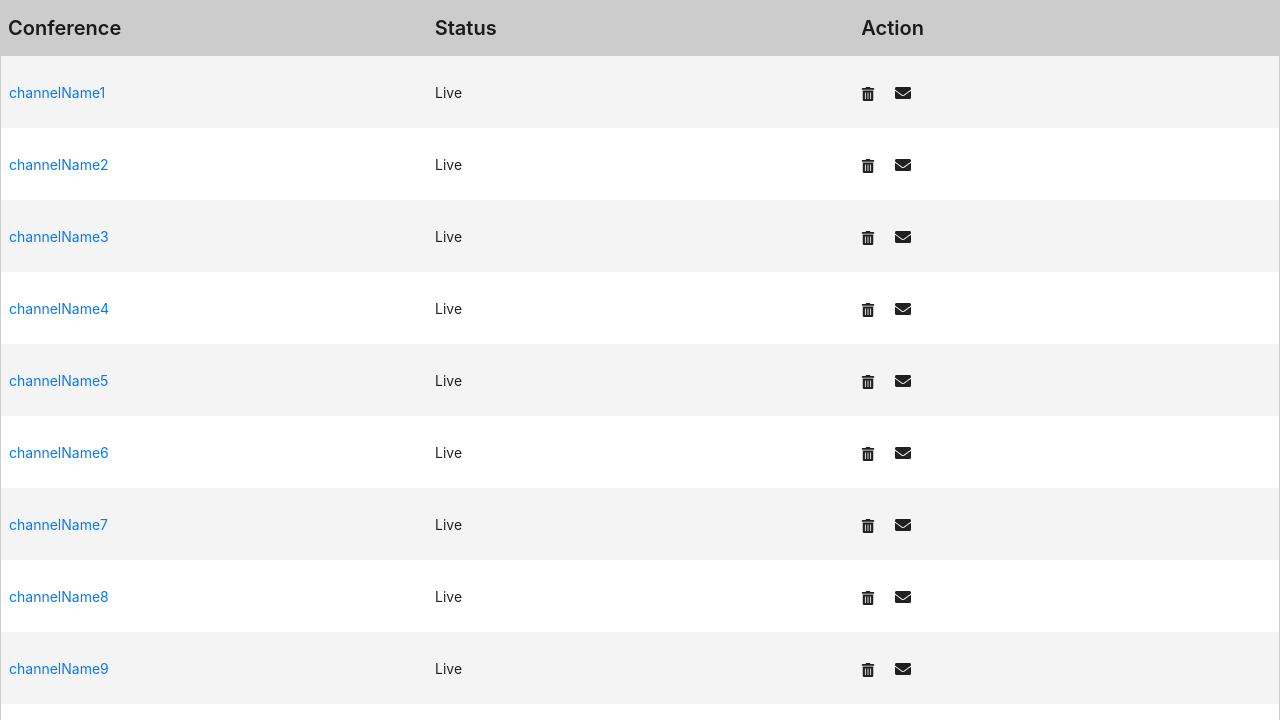
Scenario: ChannelsTable component should › Open a modal when clicking on send invitation action
Click the 2nd icon with class "table-icon". click: (903, 93)
box: x1=895 y1=85 x2=911 y2=101
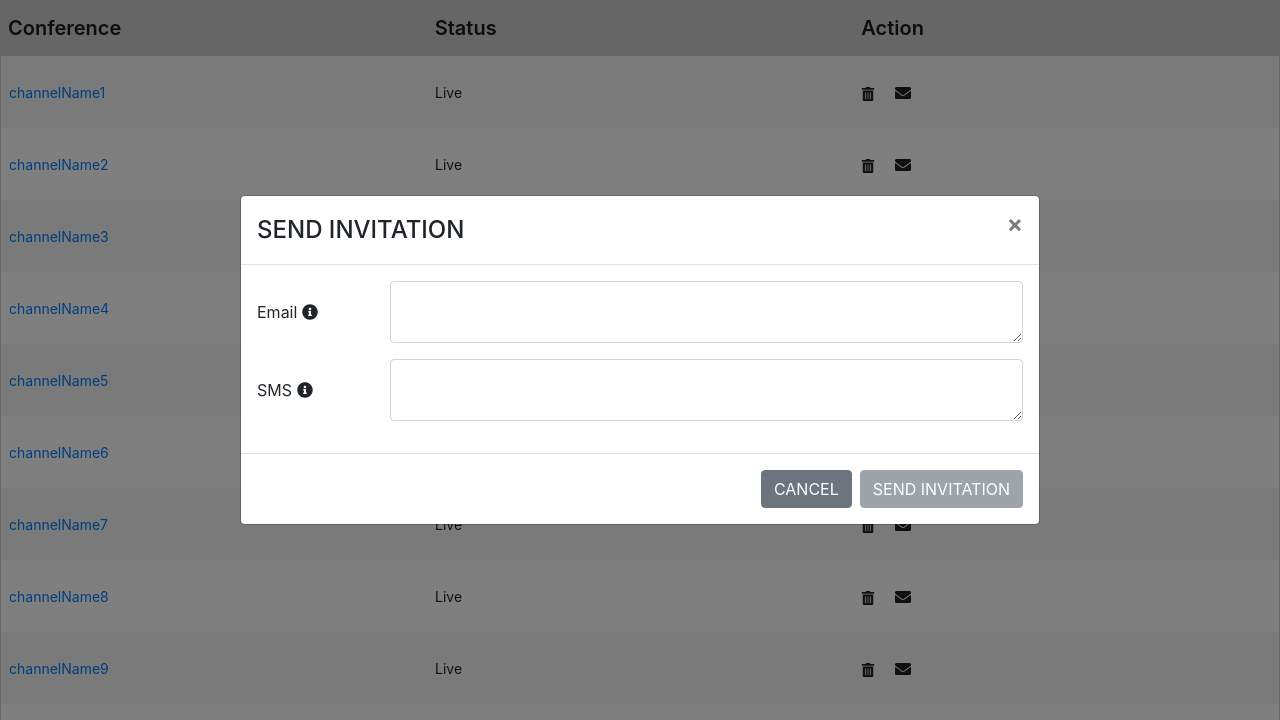
Check: the text "Email" is shown, box x1=257 y1=302 x2=318 y2=322
Check: the text "SMS" is shown, box x1=257 y1=380 x2=313 y2=400
